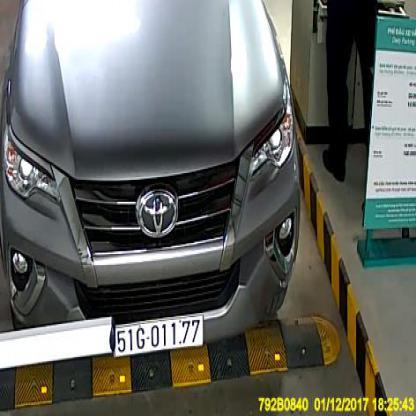biensoxe: (113, 313, 204, 357)
